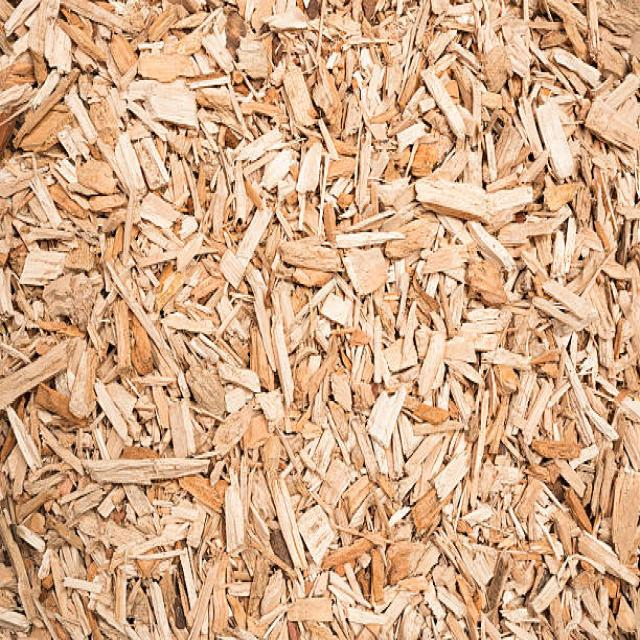trash: (8, 16, 630, 626)
